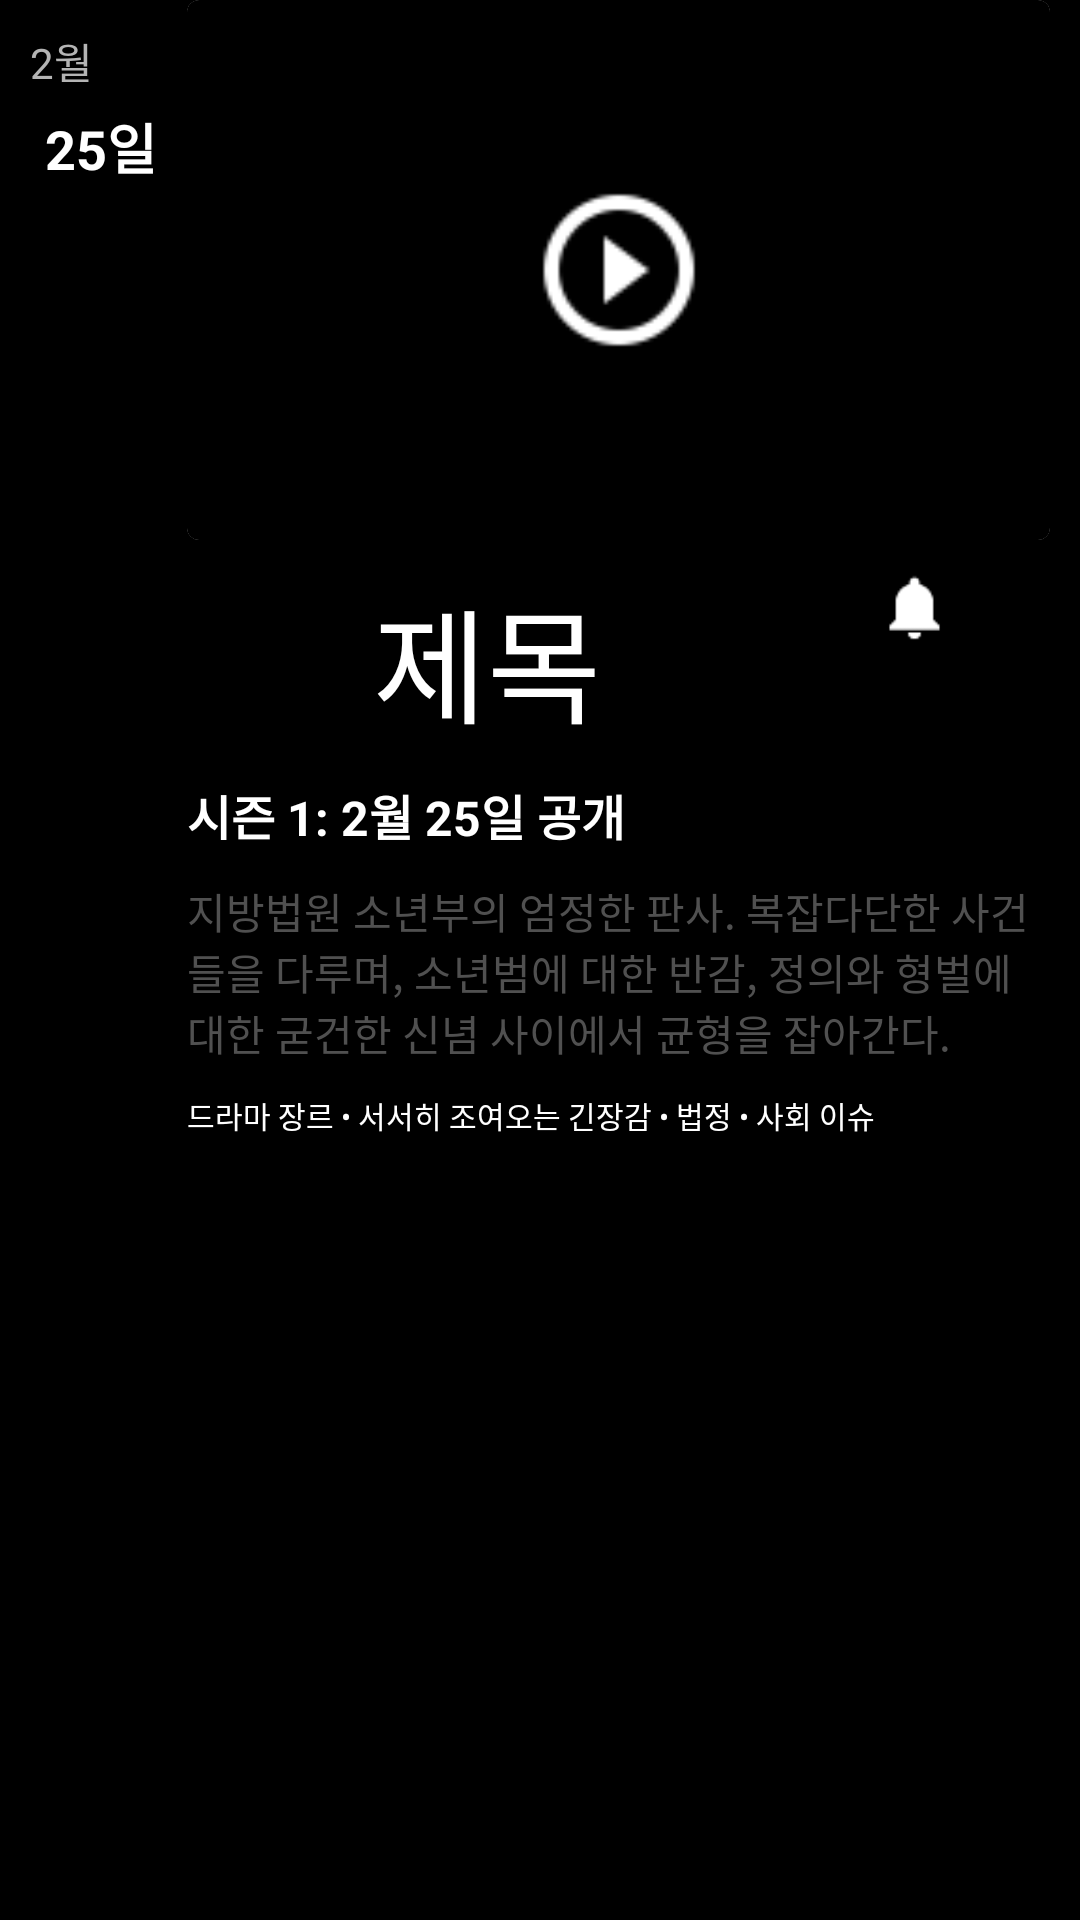

Icon bounding boxes for this 1080px×1920px phone screenshot, format (x1, y1, x2, y2):
bell: (889, 576, 940, 640)
playing: (542, 193, 696, 347)
